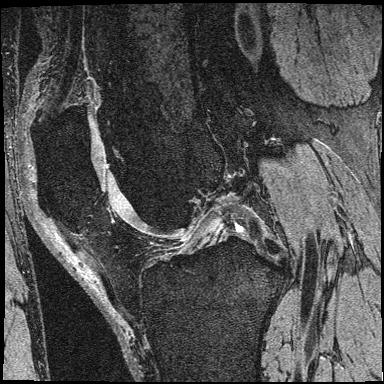SagKneeJointArea: (30, 103, 287, 333)
